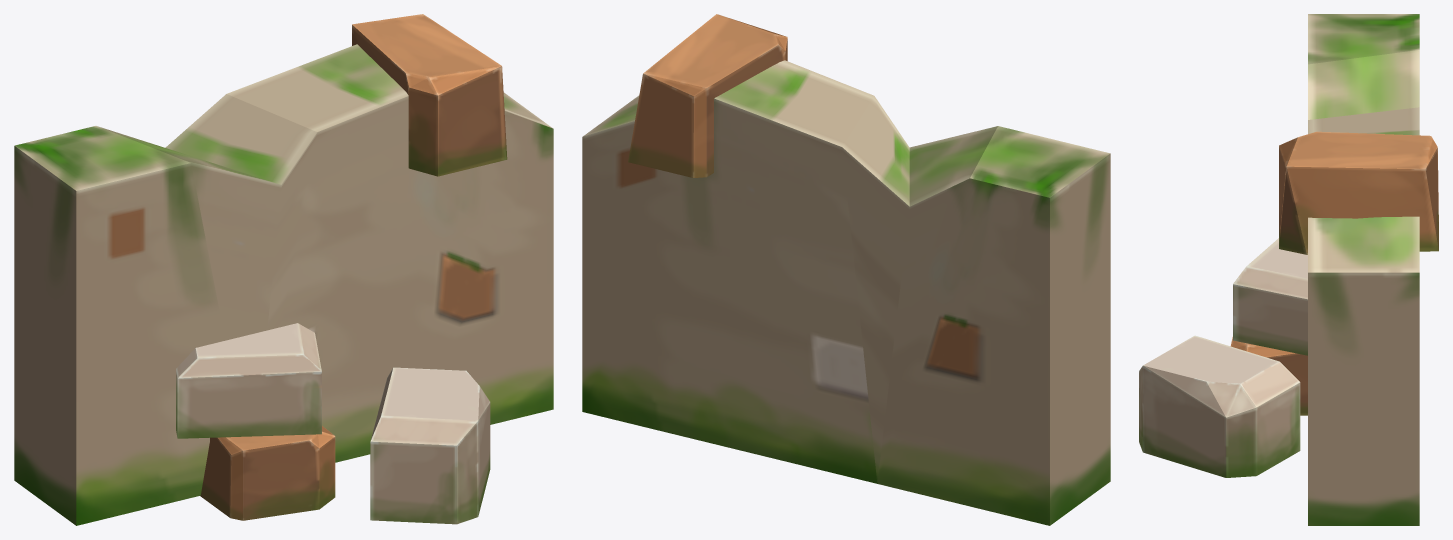
Rendered from LeirianRuins_Wall_Var04.fbx.
3 views of the same model, side by side, from view 1: azimuth 30°, elevation 25°; view 2: azimuth 150°, elevation 25°; view 3: azimuth 270°, elevation 25° (orthographic). The views are drawn at different scales.
Parts seen in each view (by area): view 1: LeirianRuins_Wall_Var04; view 2: LeirianRuins_Wall_Var04; view 3: LeirianRuins_Wall_Var04.
Boxes of the visible parts, <box> form: LeirianRuins_Wall_Var04: <box>14,14,553,525</box>; LeirianRuins_Wall_Var04: <box>582,14,1110,525</box>; LeirianRuins_Wall_Var04: <box>1139,14,1438,525</box>.
Bounding box in the file's own units: 404 × 298 × 244.
1 material, 1 textured.
